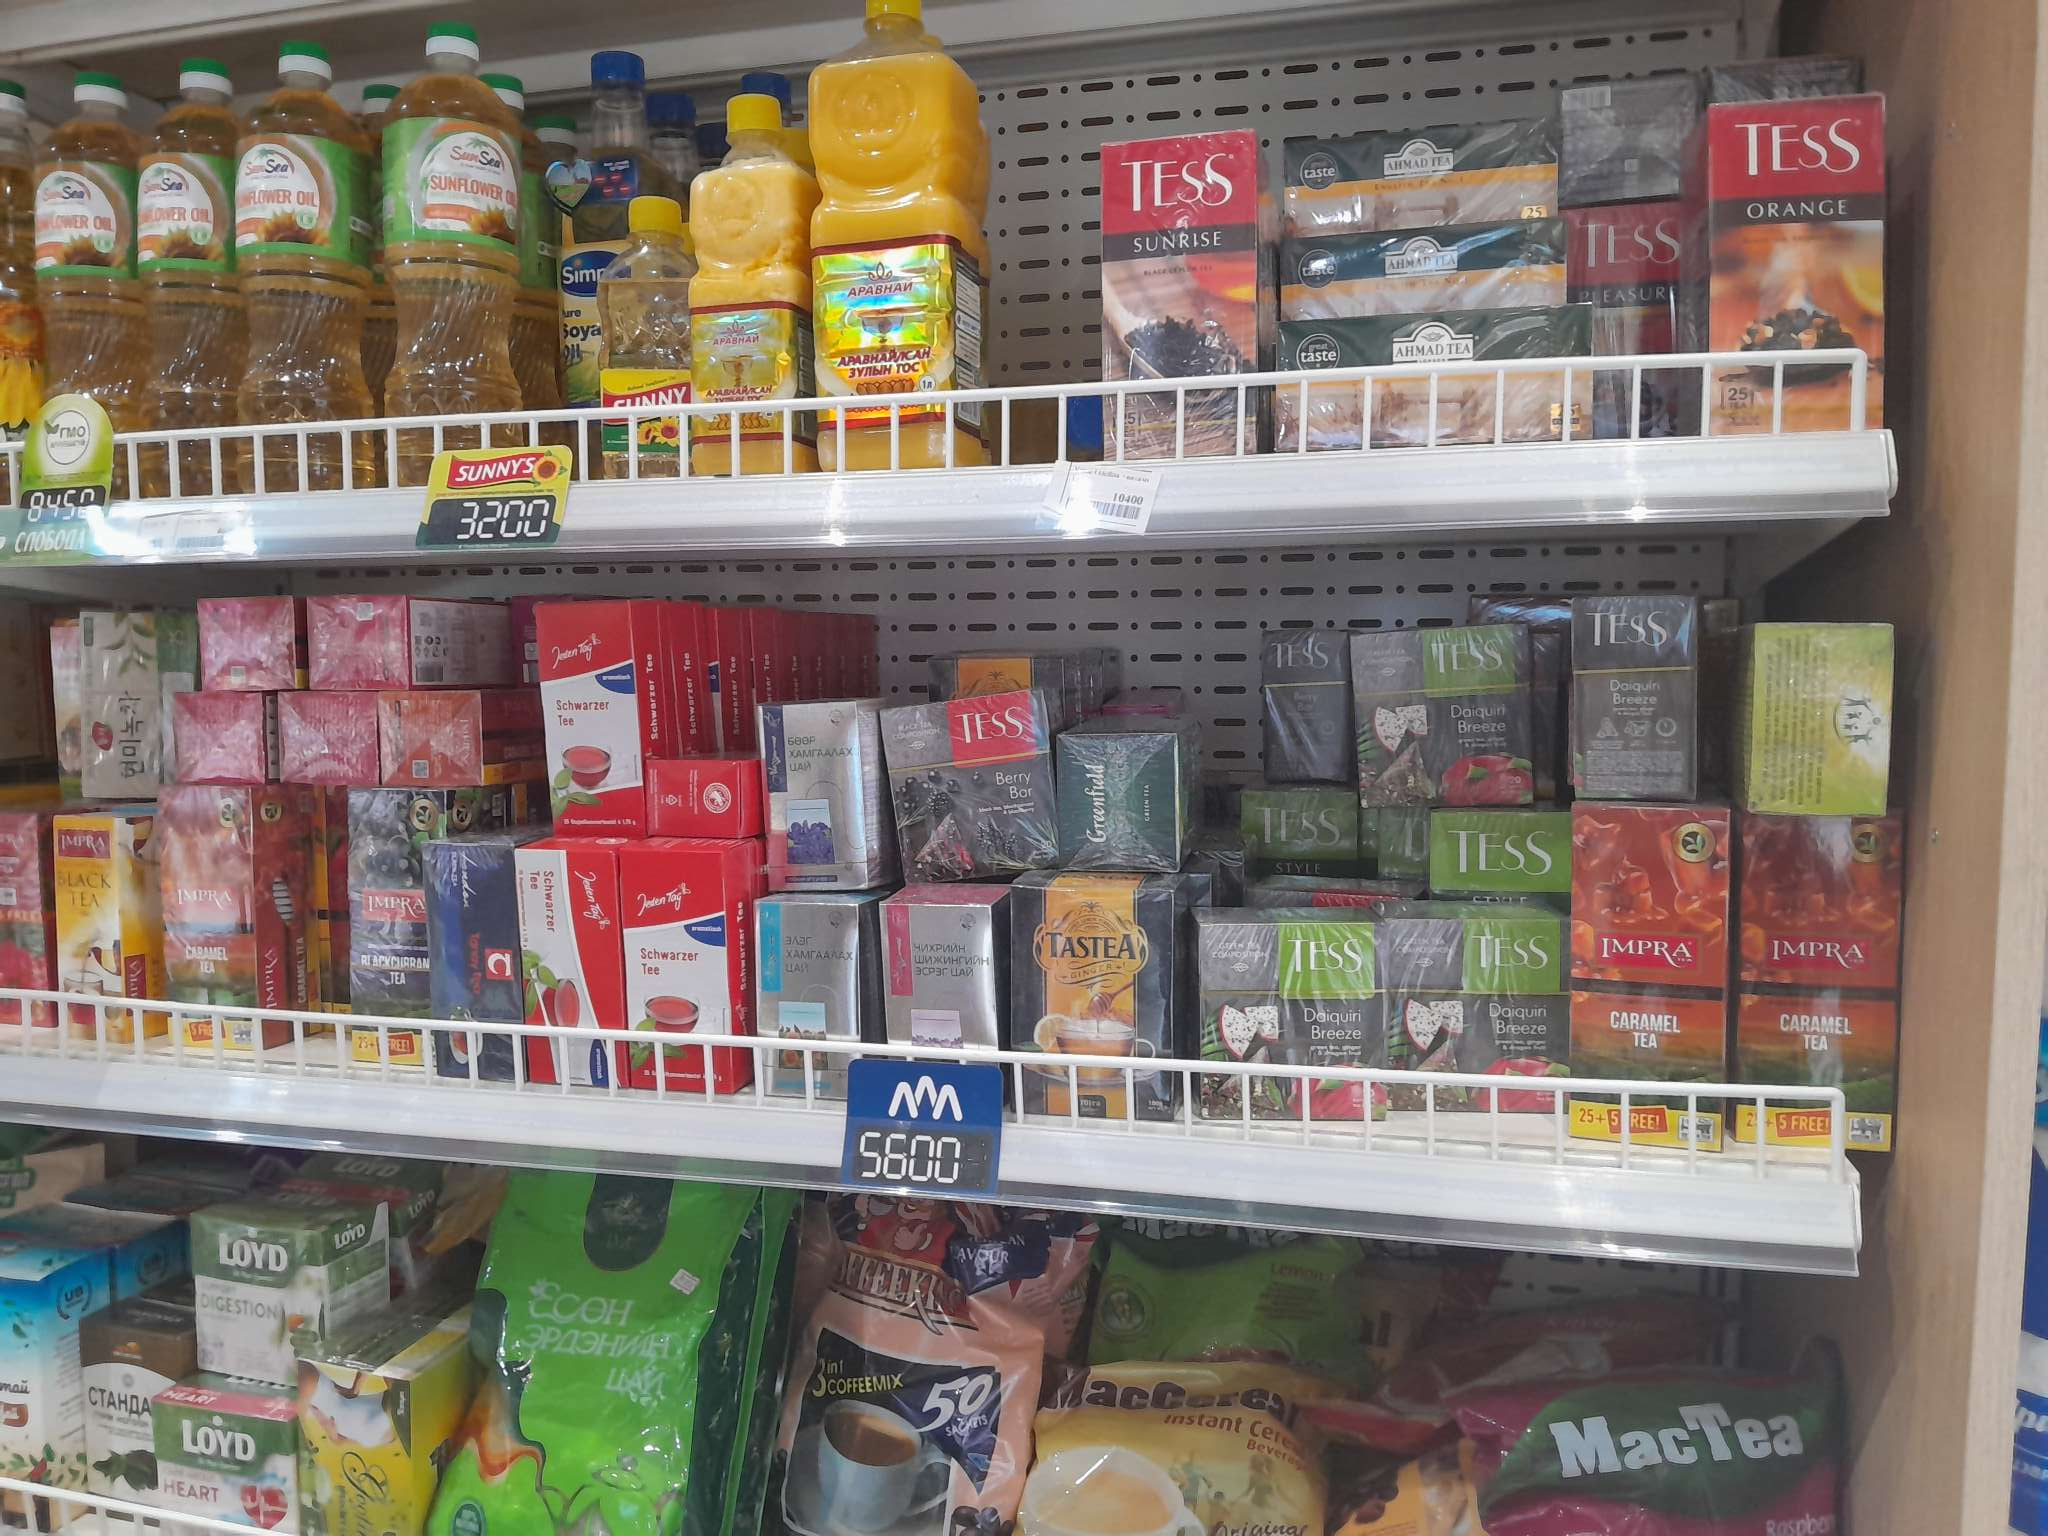ahmad: (1197, 925, 1384, 1115), (1284, 315, 1561, 429), (1288, 139, 1559, 224), (1284, 239, 1574, 316)
coffeeking: (806, 1197, 1018, 1534)
enkhjin: (760, 705, 877, 884), (755, 902, 853, 1089), (889, 899, 997, 1065)
impra: (1574, 813, 1727, 989), (1740, 823, 1904, 984), (150, 783, 256, 1031), (353, 792, 427, 1031), (48, 826, 137, 1025)
jedentag: (531, 608, 642, 831), (624, 850, 729, 1084), (524, 855, 614, 1083)
loyd: (192, 1215, 316, 1381), (155, 1389, 300, 1531)
maccereal: (1042, 1357, 1317, 1536)
mactea: (1448, 1375, 1835, 1523)
tanay: (440, 849, 513, 1075)
tastea: (1018, 873, 1171, 1113)
tess: (1095, 132, 1259, 461), (1717, 105, 1879, 432), (1398, 923, 1561, 1110), (892, 697, 1047, 865), (1579, 591, 1688, 799), (1413, 628, 1540, 805), (1576, 218, 1687, 418), (1258, 626, 1366, 795), (1248, 799, 1366, 889), (1447, 810, 1564, 895)
